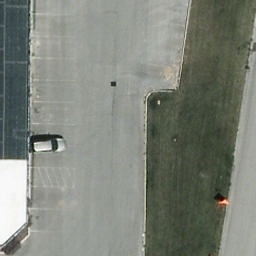car: (32, 136, 67, 155)
